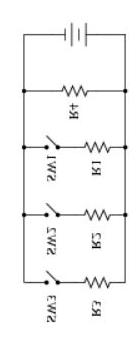resistor: (80, 134, 111, 158), (80, 201, 112, 222), (77, 272, 112, 291), (60, 78, 93, 95)
